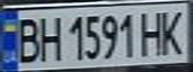1: (115, 9, 139, 58), (63, 11, 84, 61)
5: (81, 11, 103, 61)
9: (100, 11, 121, 60)
B: (9, 15, 42, 64)
H: (136, 7, 169, 56), (33, 12, 63, 62)
K: (154, 6, 190, 56)
